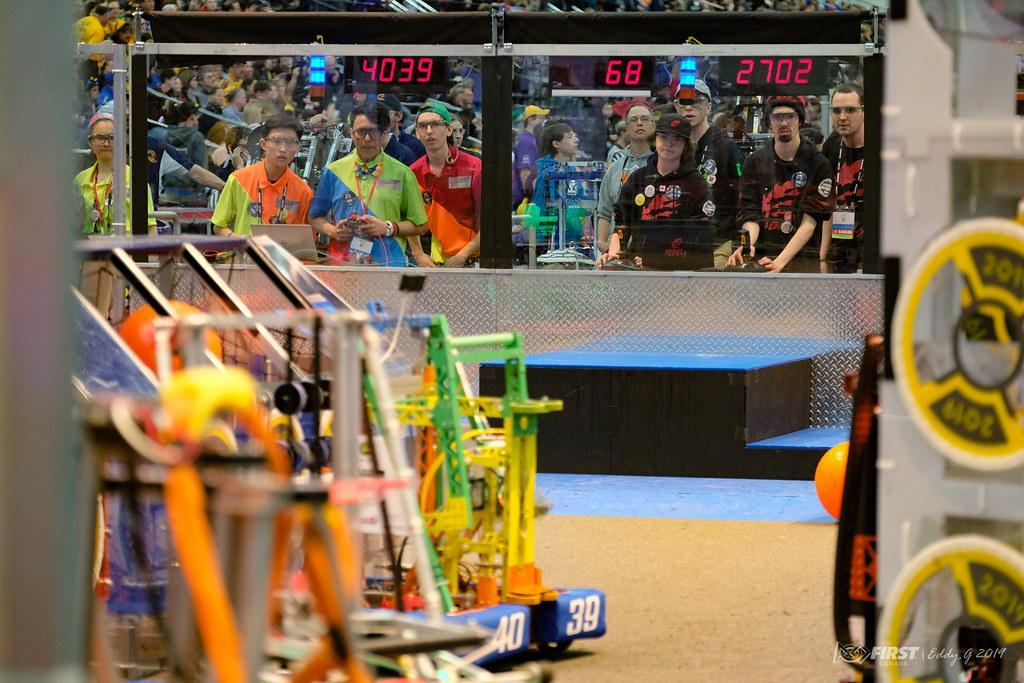robot: (60, 227, 560, 683), (313, 297, 619, 675)
